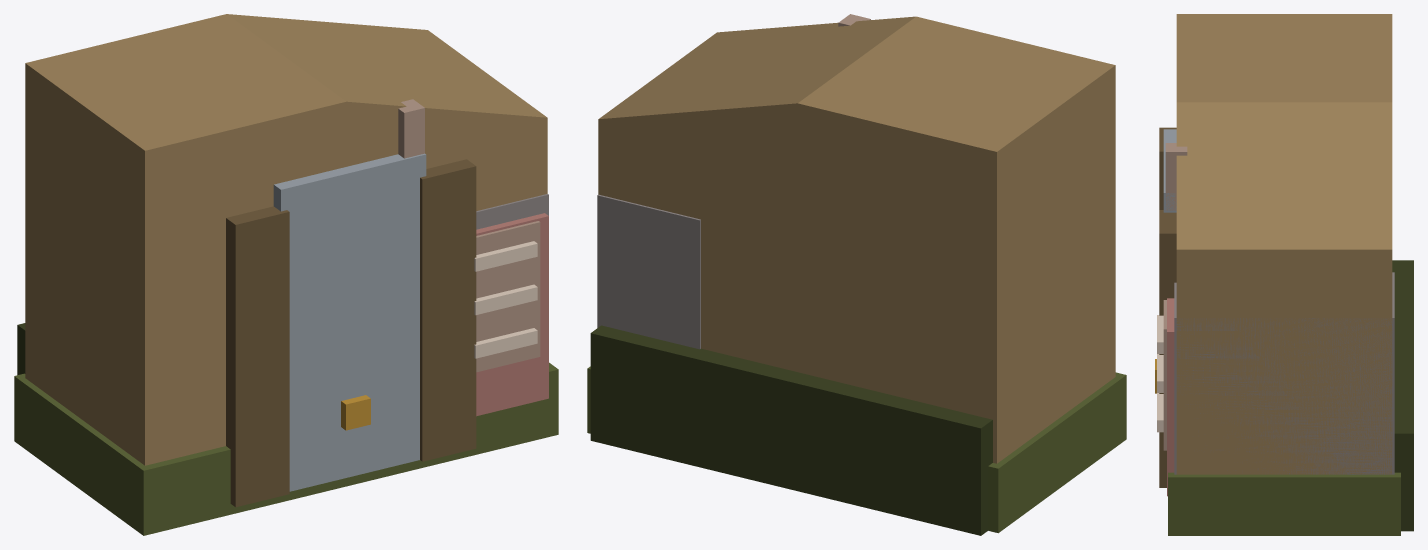
Rendered from inf_walker_upper_torso.fbx.
The picture shows the model from 3 angles, left to right: view 1: azimuth 30°, elevation 25°; view 2: azimuth 150°, elevation 25°; view 3: azimuth 270°, elevation 25°; orthographic projection. The views are drawn at different scales.
Visible parts, largest first — view 1: inf_walker_upper_torso; view 2: inf_walker_upper_torso; view 3: inf_walker_upper_torso.
Boxes of the visible parts, bbox=[...] form: inf_walker_upper_torso: bbox=[14, 14, 558, 535]; inf_walker_upper_torso: bbox=[587, 14, 1126, 535]; inf_walker_upper_torso: bbox=[1155, 14, 1413, 535].
Size of the model in its own units: 200 by 175 by 120.
